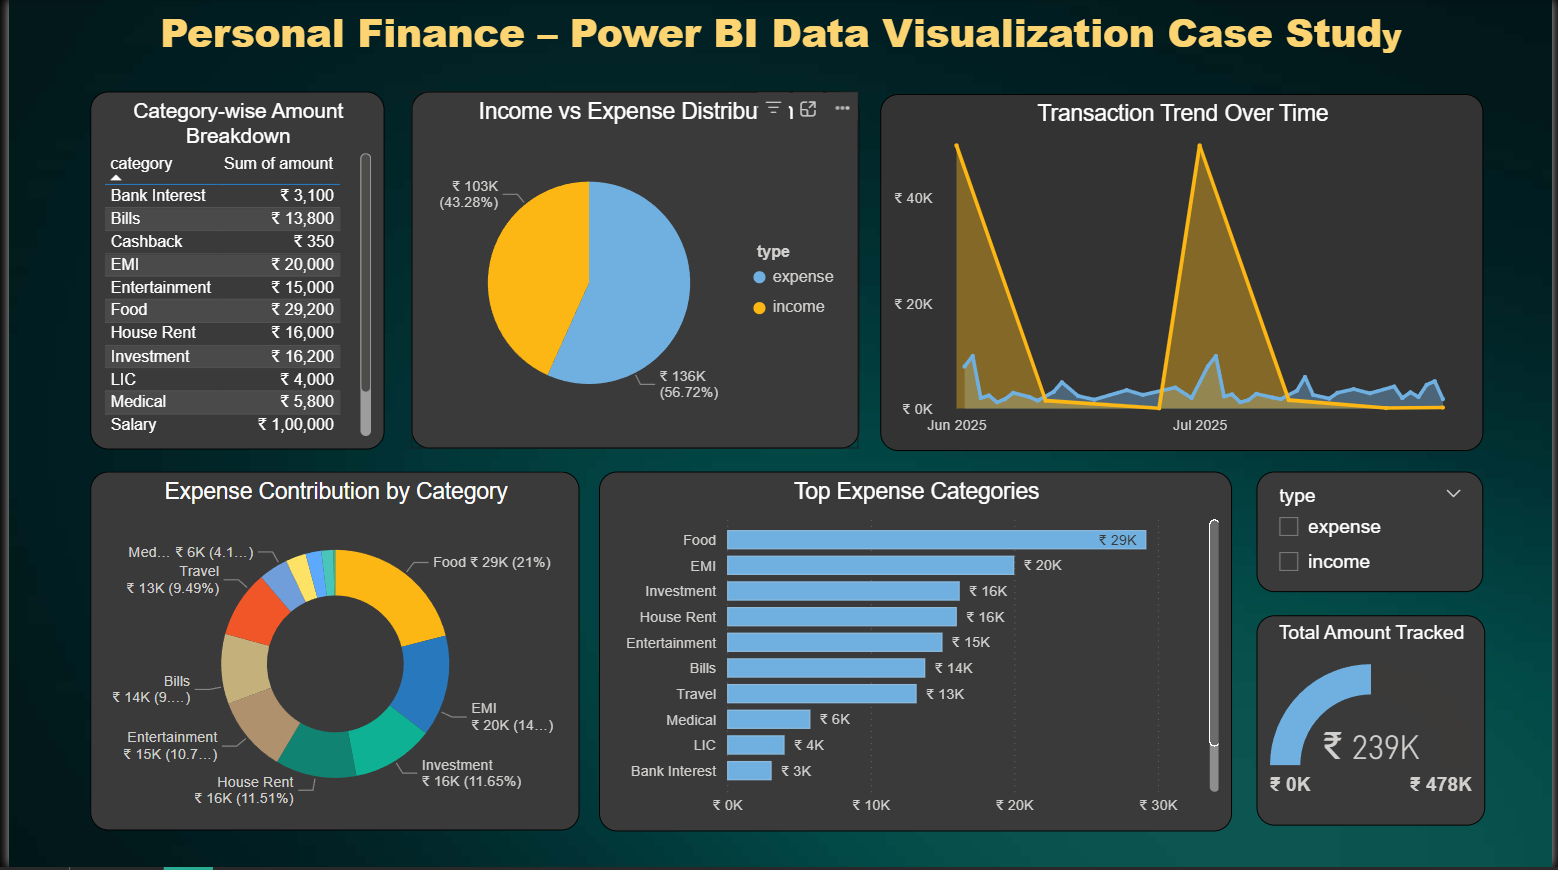

What the dashboard file says about the page in this screenshot:
{"tool":"powerbi","page":{"name":"Page 1","canvas":[1280,720],"ordinal":0},"visuals":[{"type":"textbox","box":[0,0,1279.8,76.7],"z":0},{"type":"barChart","title":"Top Expense Categories","fields":{"Category":["Sheet1. category "],"Y":["Sum(Sheet1. amount )"]},"box":[488.8,391.3,525.1,298.3],"z":1000},{"type":"pieChart","title":"Income vs Expense Distribution","fields":{"Y":["Sum(Sheet1. amount )"],"Category":["Sheet1. type "]},"box":[333.5,77.1,370.9,296],"z":2000},{"type":"donutChart","title":"Expense Contribution by Category","fields":{"Y":["Sum(Sheet1. amount )"],"Category":["Sheet1. category "]},"box":[67.2,391.4,405.9,297.8],"z":3000},{"type":"areaChart","title":"Transaction Trend Over Time","fields":{"Category":["Sheet1. date .Variation.Date Hierarchy.Year","Sheet1. date .Variation.Date Hierarchy.Quarter","Sheet1. date .Variation.Date Hierarchy.Month","Sheet1. date .Variation.Date Hierarchy.Day"],"Series":["Sheet1. type "],"Y":["Sum(Sheet1. amount )"]},"box":[722.5,78.3,500.2,296],"z":4000},{"type":"tableEx","title":"Category-wise Amount Breakdown","fields":{"Values":["Sheet1. category ","Sum(Sheet1. amount )"]},"box":[66.9,77.1,243.9,297.2],"z":5000},{"type":"gauge","title":"Total Amount Tracked","fields":{"Y":["Sum(Sheet1. amount )"]},"box":[1033.7,510.5,189.5,174.4],"z":6000},{"type":"slicer","fields":{"Values":["Sheet1. type "]},"box":[1033.7,391.9,188.4,100],"z":7000}]}

Visuals, with their boxes in screenshot pixels (x1, y1, x2, y2), scaled from the page's 1280x720 canvas onto the 1558x870 screenshot:
textbox: 0, 0, 1557, 93
"Top Expense Categories" barChart: 595, 473, 1234, 833
"Income vs Expense Distribution" pieChart: 406, 93, 857, 451
"Expense Contribution by Category" donutChart: 82, 473, 576, 833
"Transaction Trend Over Time" areaChart: 879, 95, 1488, 452
"Category-wise Amount Breakdown" tableEx: 81, 93, 378, 452
"Total Amount Tracked" gauge: 1258, 617, 1489, 828
slicer - Sheet1. type : 1258, 474, 1488, 594
